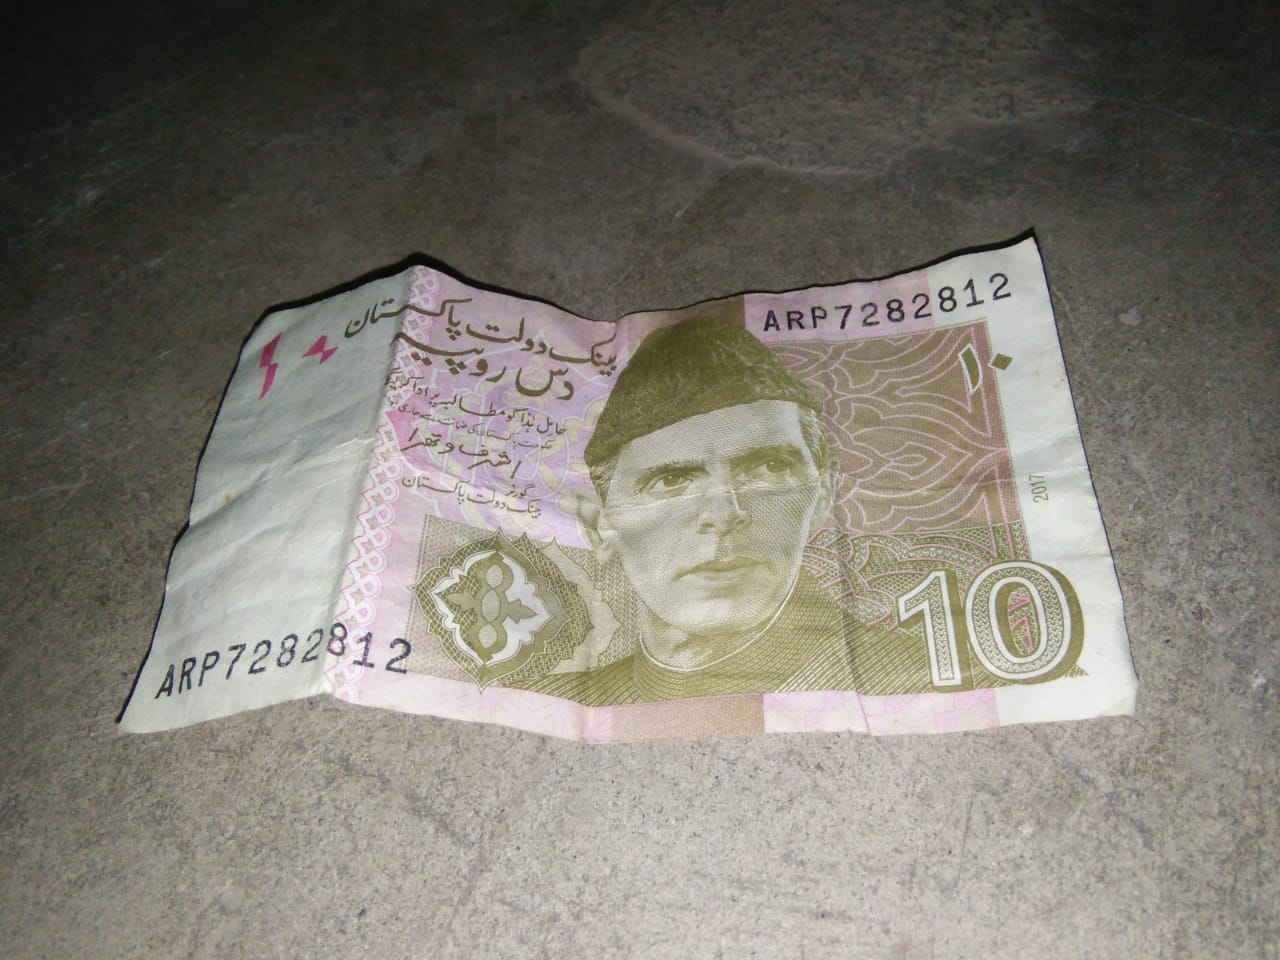10 rupee: (105, 217, 1149, 764)
